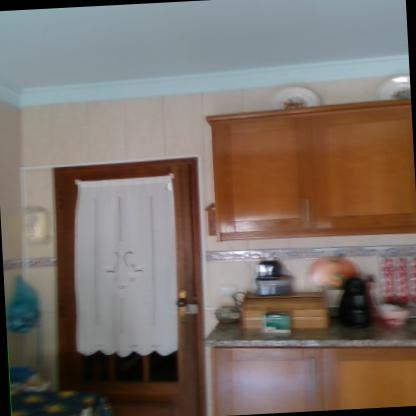closed: (38, 150, 227, 415)
